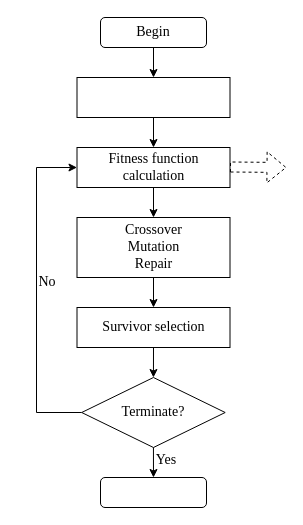
This 303x525 diagram has some shape labels left out. Here are the shapes that lost their labels. From the top down, the box of each, then its label:
(76, 76, 230, 118): Population initialization
(100, 476, 206, 508): End
